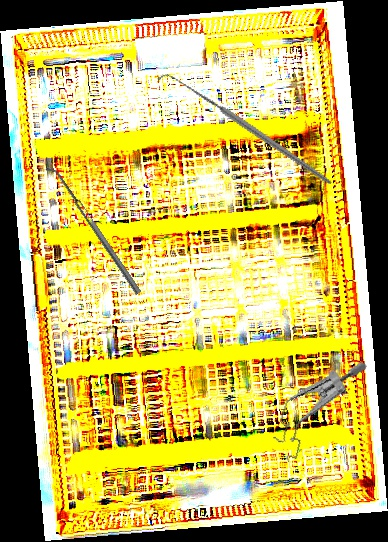Hook Surgical: (156, 28, 334, 233)
Spatula Surgical: (44, 162, 142, 299)
Speculum: (266, 343, 369, 476)
